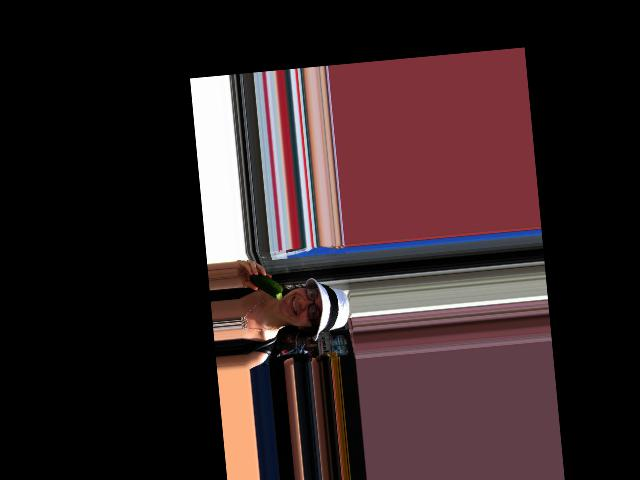cucumber: (249, 270, 283, 301)
